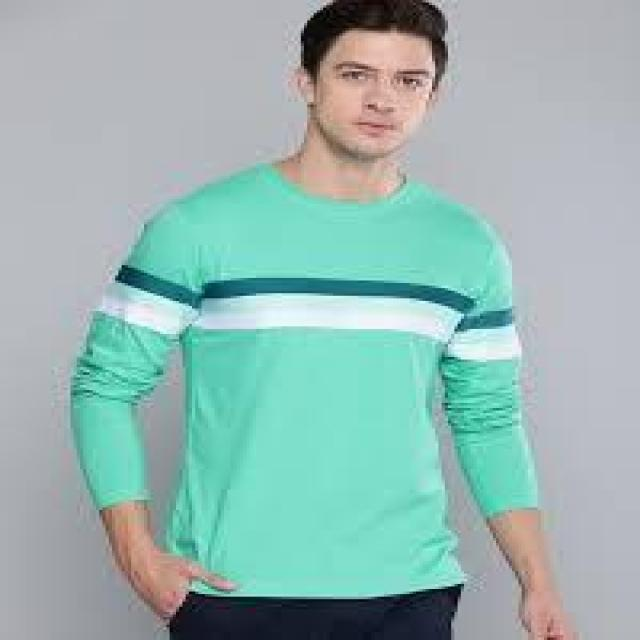Tshirt: (67, 159, 544, 603)
